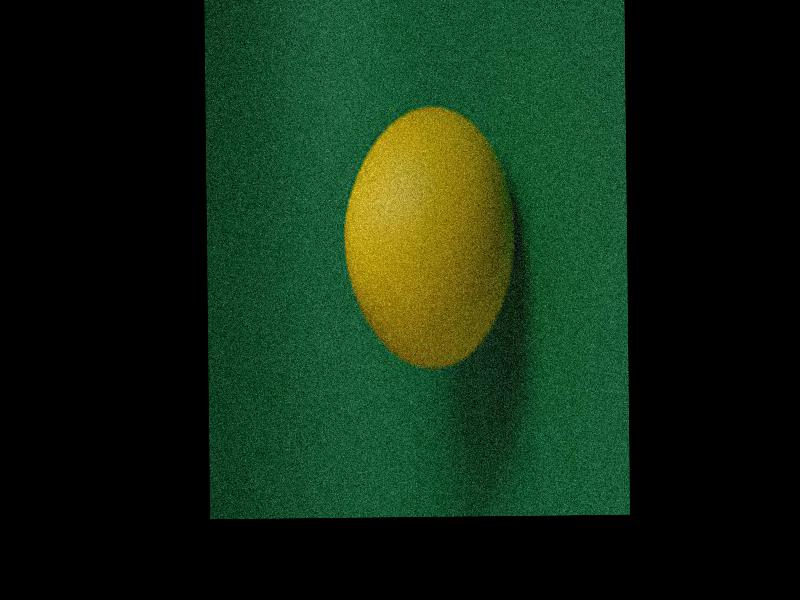Eggs: (341, 102, 517, 361)
